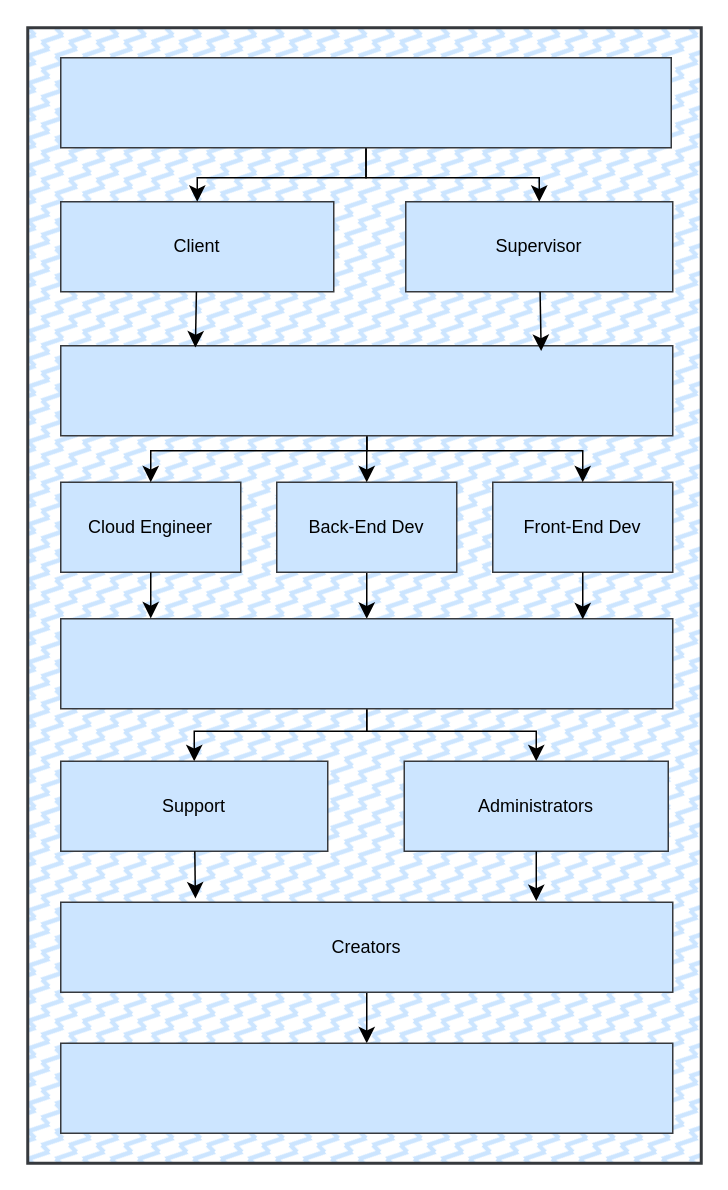
The diagram is 728 pixels wide and 1190 high, and some of its shapes have lost their labels. Here are the shapes that lost their labels. From the top down, the centre of each, then its label:
point (365, 102): Sponsor
point (366, 390): Project Manager
point (366, 663): UX / Testing
point (366, 1087): Viewers
